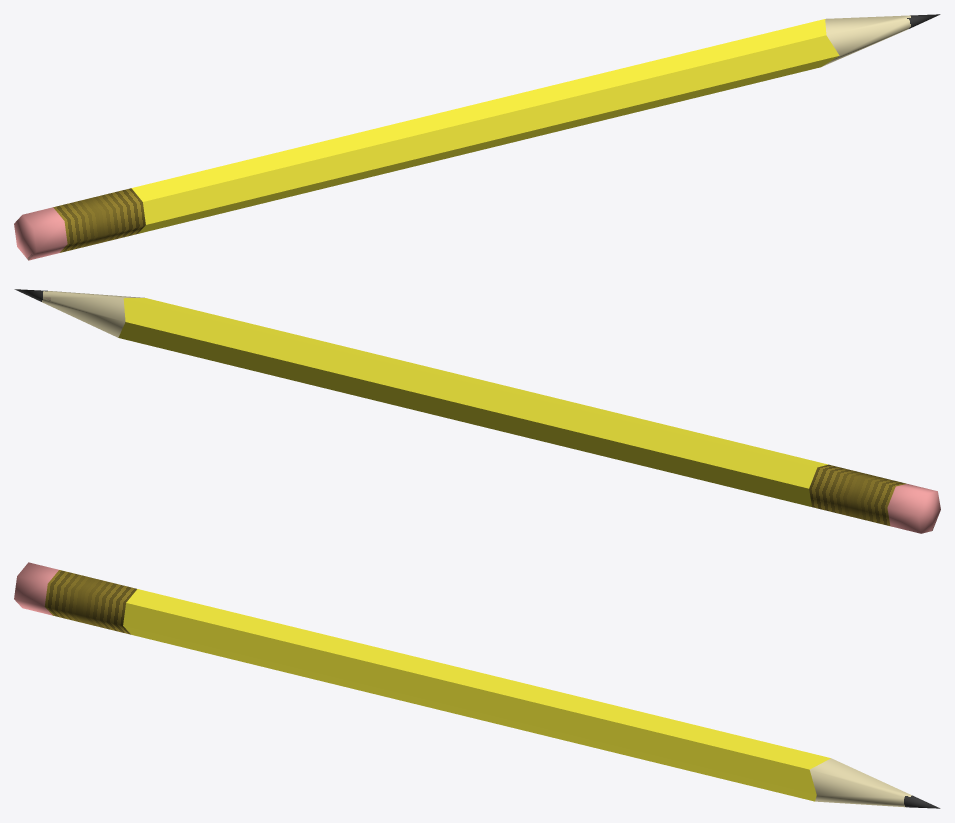
The model's file is Pencil.fbx.
3 renders of one model, top to bottom at view 1: azimuth 30°, elevation 25°; view 2: azimuth 150°, elevation 25°; view 3: azimuth 330°, elevation 25°, orthographic.
Visible parts, largest first — view 1: Pencil; view 2: Pencil; view 3: Pencil.
Boxes of the visible parts, x1,y1,x2,y2 form: Pencil: (14,14,940,260); Pencil: (14,289,940,533); Pencil: (14,562,940,808).
Bounding box in the file's own units: 0.2984 × 0.0129 × 0.0129.
Materials: 1 (1 with a texture image).
